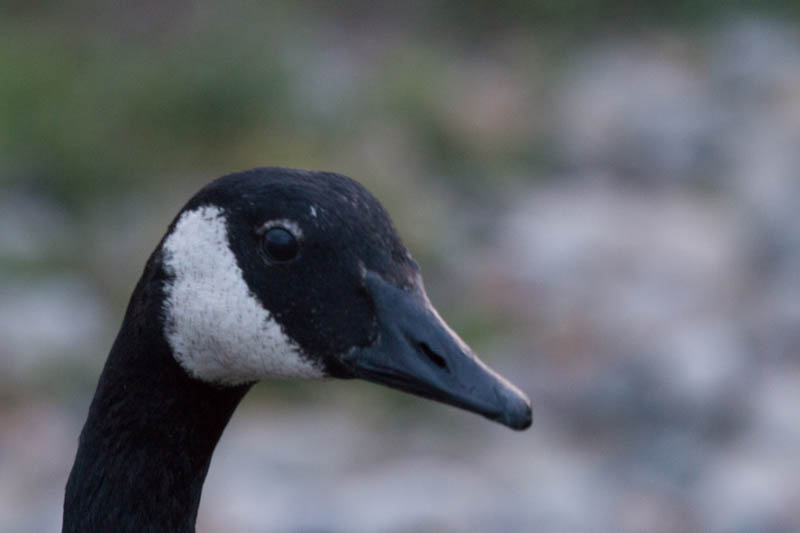goose-head: (125, 167, 535, 431)
